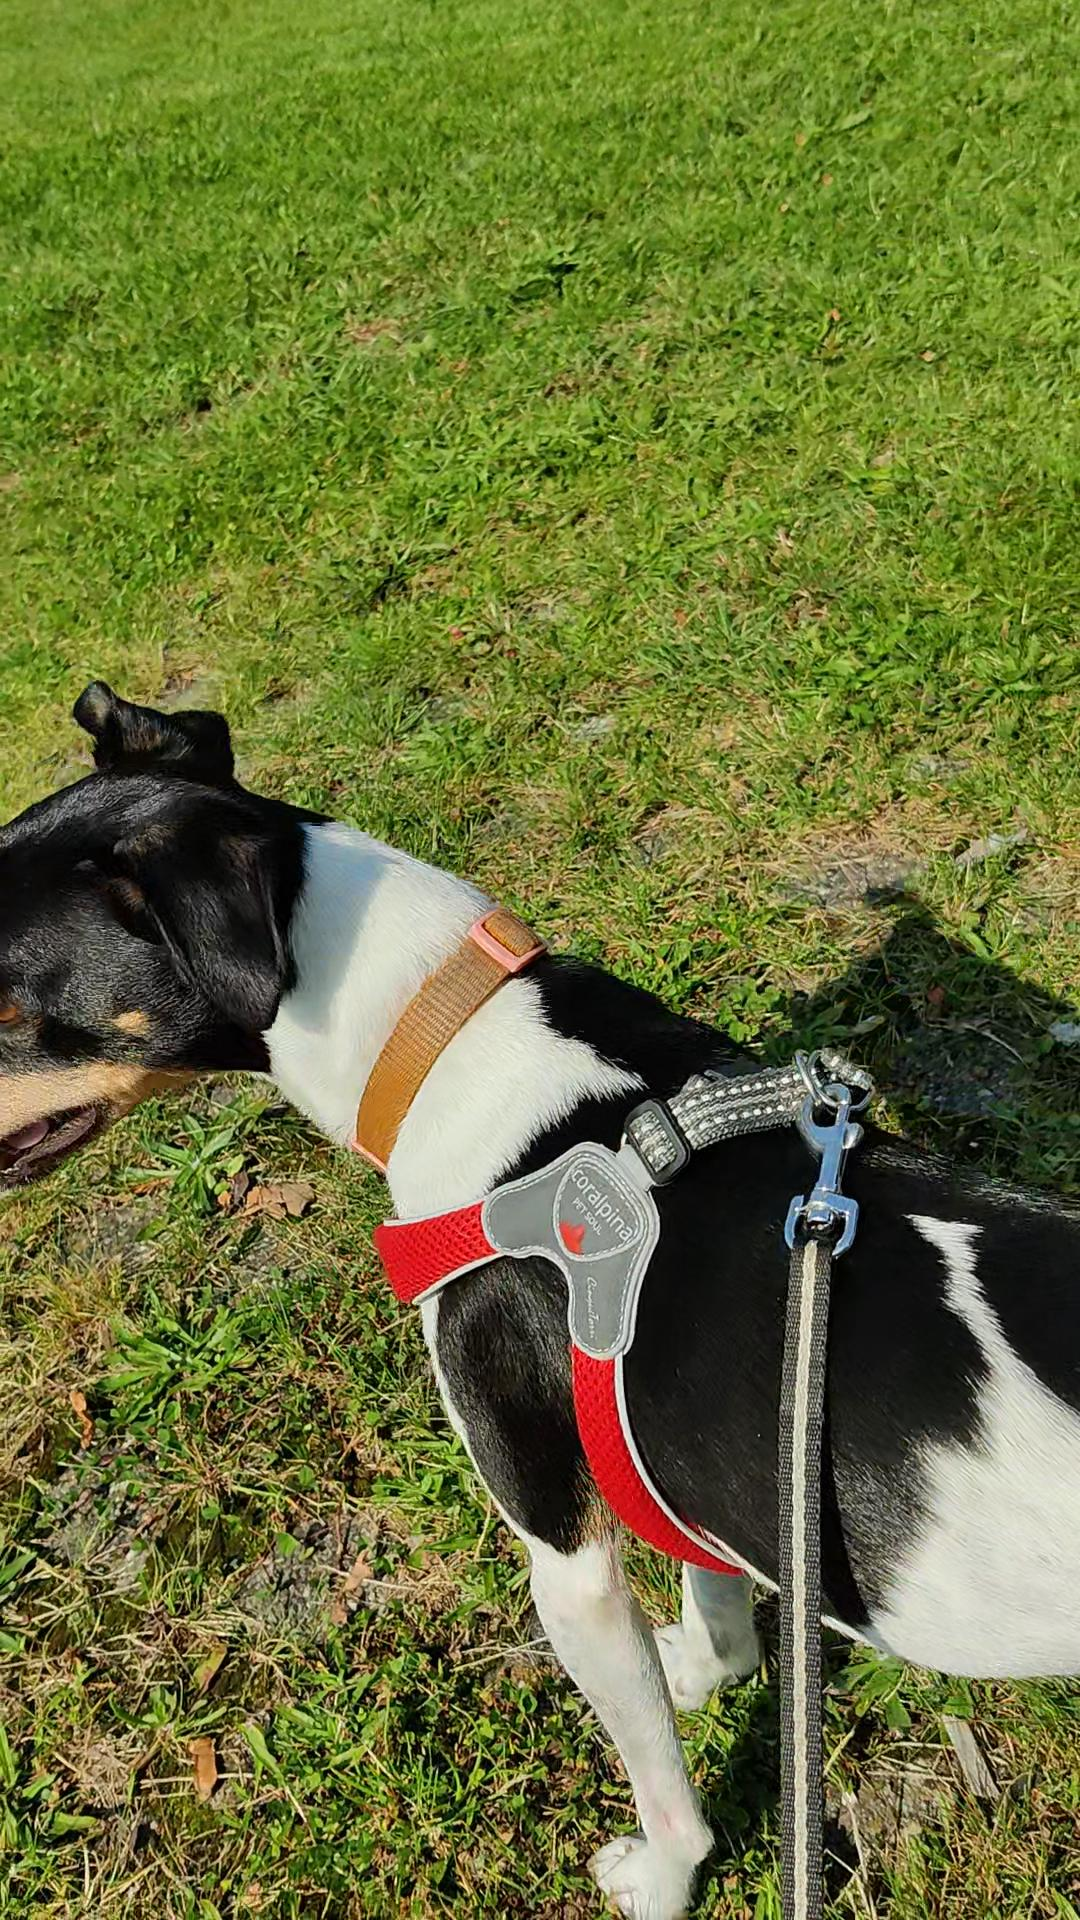Dog: (0, 662, 1079, 1919)
